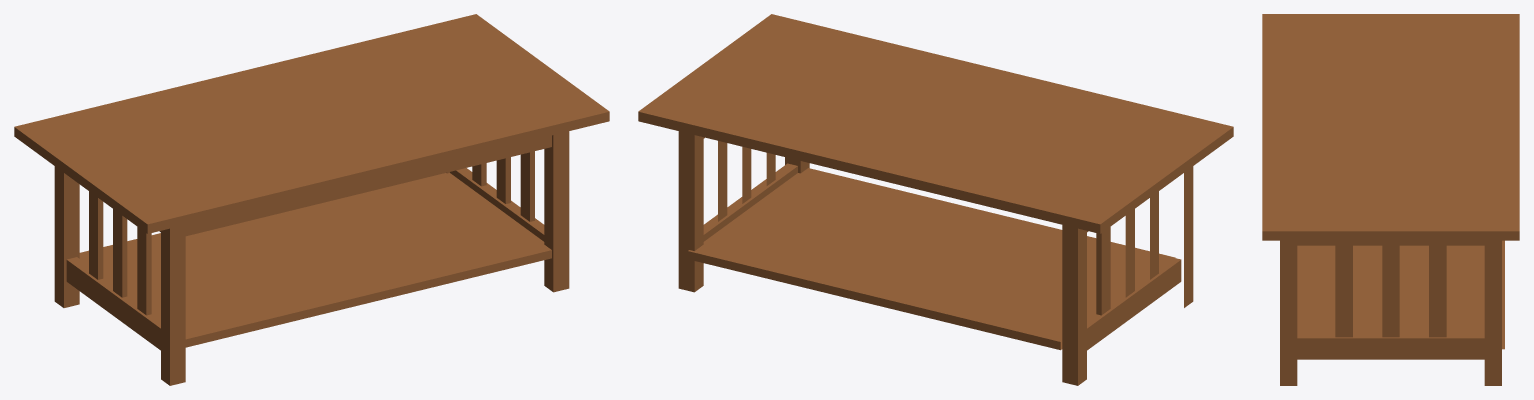
The model's file is table-by-cmht-oculus-26JmU6Mbv76.glb.
3 renders of one model, left to right at view 1: azimuth 30°, elevation 25°; view 2: azimuth 150°, elevation 25°; view 3: azimuth 270°, elevation 25°, orthographic. The views are drawn at different scales.
Parts seen in each view (by area): view 1: Node; view 2: Node; view 3: Node.
Boxes of the visible parts, <box> form: Node: <box>14,14,609,385</box>; Node: <box>638,14,1233,385</box>; Node: <box>1262,14,1519,385</box>.
Size of the model in its own units: 44 by 16 by 22.
